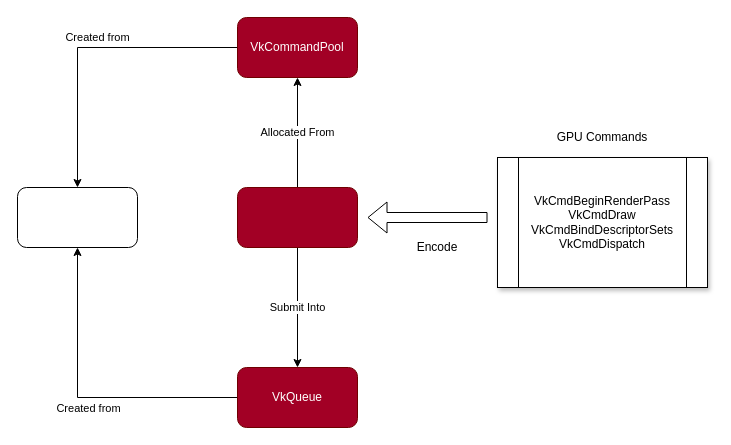
Image size: 731x445. Some labels were removed from this diagram. The shapes that lost their labels are listed below. From the top down, each one's centre as x and y in pixels, then its label:
(77,217): VkDevice
(297,217): VkCommandBuffer
